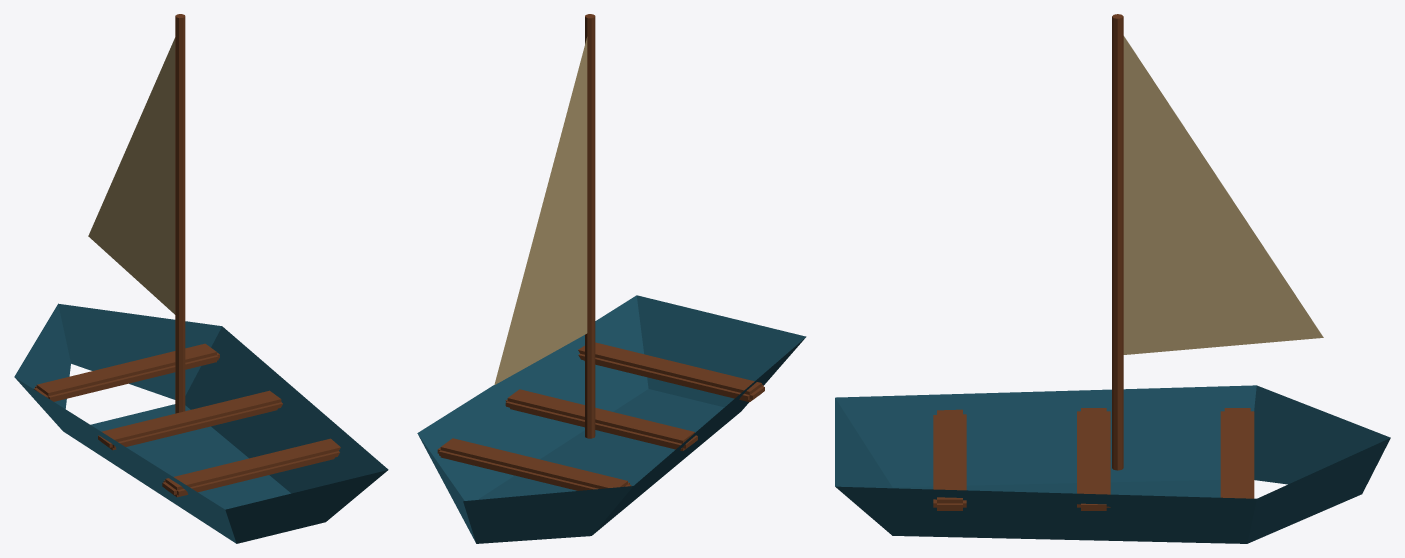
Rendered from boat.glb.
3 views of the same model, side by side, from view 1: azimuth 30°, elevation 25°; view 2: azimuth 150°, elevation 25°; view 3: azimuth 270°, elevation 25° (orthographic). The views are drawn at different scales.
Visible parts, largest first — view 1: Harbour skiffMesh; view 2: Harbour skiffMesh; view 3: Harbour skiffMesh.
Part boxes in pixels (bbox=[...]): Harbour skiffMesh: bbox=[14, 14, 388, 543]; Harbour skiffMesh: bbox=[417, 14, 806, 543]; Harbour skiffMesh: bbox=[835, 14, 1390, 543].
Size of the model in its own units: 2.8 by 5.7 by 5.8.
